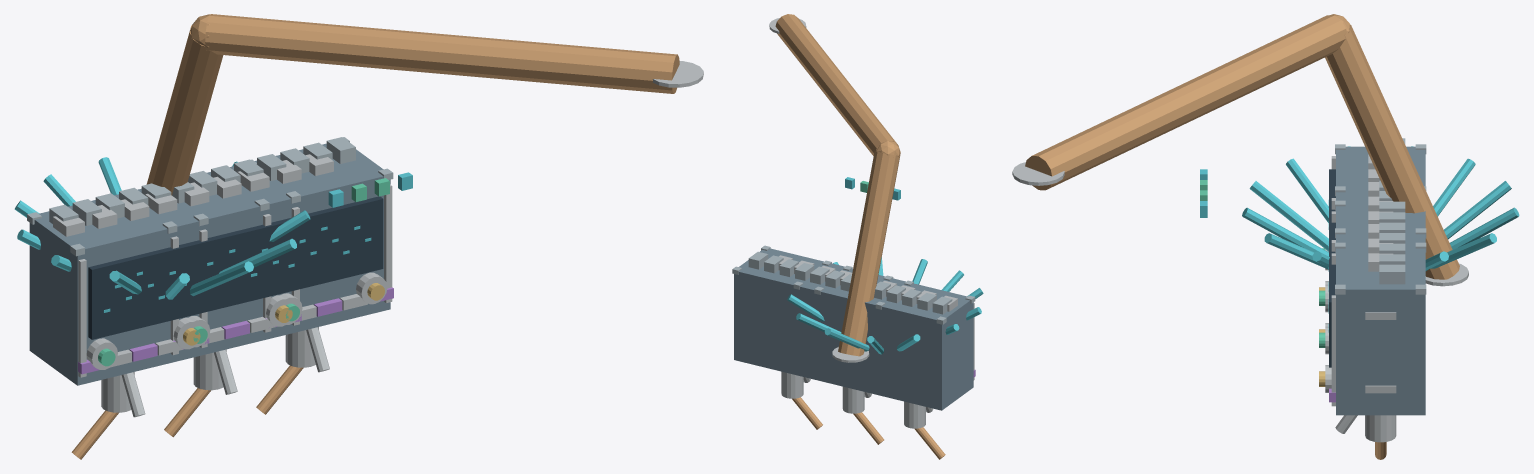
The model's file is 23_L78_CapGasMassFlowController.glb.
3 renders of one model, left to right at view 1: azimuth 30°, elevation 25°; view 2: azimuth 150°, elevation 25°; view 3: azimuth 270°, elevation 25°, orthographic. The views are drawn at different scales.
Parts seen in each view (by area): view 1: CapGasMassFlowController_Node_0118, CapGasMassFlowController_Node_0000, CapGasMassFlowController_Node_0085, CapGasMassFlowController_Node_0007, CapGasMassFlowController_Node_0039, CapGasMassFlowController_Node_0078, CapGasMassFlowController_Node_0117, CapGasMassFlowController_Node_0046, CapGasMassFlowController_Node_0005, CapGasMassFlowController_Node_0112, CapGasMassFlowController_Node_0073, CapGasMassFlowController_Node_0034 (+6 smaller); view 2: CapGasMassFlowController_Node_0000, CapGasMassFlowController_Node_0078, CapGasMassFlowController_Node_0039, CapGasMassFlowController_Node_0117, CapGasMassFlowController_Node_0118, CapGasMassFlowController_Node_0073, CapGasMassFlowController_Node_0112, CapGasMassFlowController_Node_0034, CapGasMassFlowController_Node_0132, CapGasMassFlowController_Node_0035, CapGasMassFlowController_Node_0074, CapGasMassFlowController_Node_0113 (+6 smaller); view 3: CapGasMassFlowController_Node_0078, CapGasMassFlowController_Node_0118, CapGasMassFlowController_Node_0117, CapGasMassFlowController_Node_0000, CapGasMassFlowController_Node_0039, CapGasMassFlowController_Node_0126, CapGasMassFlowController_Node_0125, CapGasMassFlowController_Node_0131, CapGasMassFlowController_Node_0112, CapGasMassFlowController_Node_0132, CapGasMassFlowController_Node_0121, CapGasMassFlowController_Node_0127 (+5 smaller).
Part boxes in pixels (<box>): CapGasMassFlowController_Node_0118: <box>205,14,679,93</box>; CapGasMassFlowController_Node_0000: <box>29,189,206,385</box>; CapGasMassFlowController_Node_0085: <box>276,196,383,294</box>; CapGasMassFlowController_Node_0007: <box>88,242,198,339</box>; CapGasMassFlowController_Node_0039: <box>137,167,298,361</box>; CapGasMassFlowController_Node_0078: <box>230,143,390,331</box>; CapGasMassFlowController_Node_0117: <box>146,25,223,195</box>; CapGasMassFlowController_Node_0046: <box>181,218,291,313</box>; CapGasMassFlowController_Node_0005: <box>78,259,86,377</box>; CapGasMassFlowController_Node_0112: <box>285,327,318,367</box>; CapGasMassFlowController_Node_0073: <box>193,349,226,390</box>; CapGasMassFlowController_Node_0034: <box>101,372,134,412</box>; CapGasMassFlowController_Node_0000: <box>856,278,973,410</box>; CapGasMassFlowController_Node_0078: <box>734,248,823,380</box>; CapGasMassFlowController_Node_0039: <box>795,263,885,395</box>; CapGasMassFlowController_Node_0117: <box>838,151,900,356</box>; CapGasMassFlowController_Node_0118: <box>775,14,898,155</box>; CapGasMassFlowController_Node_0073: <box>842,386,864,413</box>; CapGasMassFlowController_Node_0112: <box>781,371,803,398</box>; CapGasMassFlowController_Node_0034: <box>904,401,925,428</box>; CapGasMassFlowController_Node_0132: <box>824,328,869,351</box>; CapGasMassFlowController_Node_0035: <box>914,427,945,459</box>; CapGasMassFlowController_Node_0074: <box>853,412,884,444</box>; CapGasMassFlowController_Node_0113: <box>792,397,822,429</box>; CapGasMassFlowController_Node_0078: <box>1336,231,1425,415</box>; CapGasMassFlowController_Node_0118: <box>1025,15,1346,190</box>; CapGasMassFlowController_Node_0117: <box>1325,25,1459,279</box>; CapGasMassFlowController_Node_0000: <box>1336,146,1425,205</box>; CapGasMassFlowController_Node_0039: <box>1336,189,1425,238</box>; CapGasMassFlowController_Node_0126: <box>1249,181,1328,251</box>; CapGasMassFlowController_Node_0125: <box>1242,207,1328,256</box>; CapGasMassFlowController_Node_0131: <box>1444,181,1511,239</box>; CapGasMassFlowController_Node_0112: <box>1365,415,1396,442</box>; CapGasMassFlowController_Node_0132: <box>1449,207,1519,249</box>; CapGasMassFlowController_Node_0121: <box>1012,162,1064,185</box>; CapGasMassFlowController_Node_0127: <box>1286,158,1328,222</box>.
Bounding box in the file's own units: 1.67 × 1.45 × 1.63.
